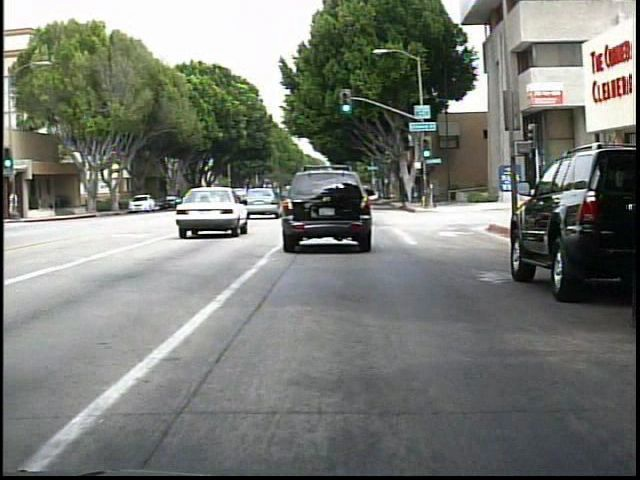person: (10, 188, 28, 219)
